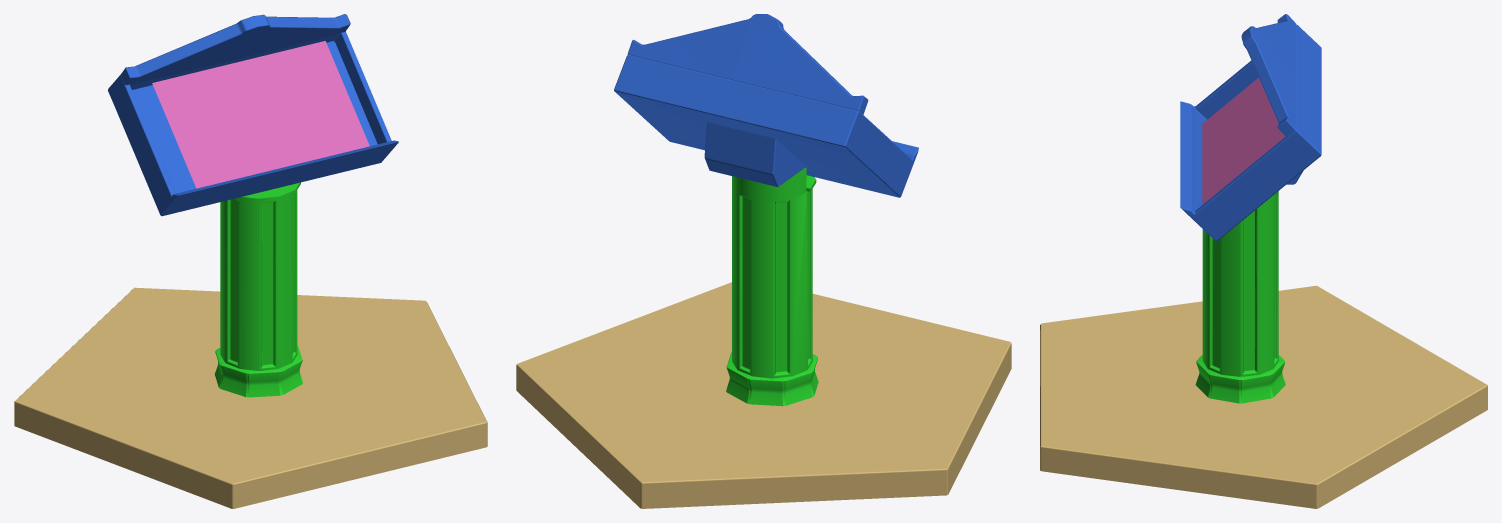
File: book_Something.fbx
3 views of the same model, side by side, from view 1: azimuth 30°, elevation 25°; view 2: azimuth 150°, elevation 25°; view 3: azimuth 270°, elevation 25° (orthographic). The views are drawn at different scales.
Parts seen in each view (by area): view 1: Cylinder.006; view 2: Cylinder.006; view 3: Cylinder.006.
Part boxes in pixels (x1,y1,x2,y2): Cylinder.006: (14, 14, 487, 508); Cylinder.006: (516, 14, 1011, 508); Cylinder.006: (1040, 14, 1487, 508).
Bounding box in the file's own units: 226 × 201 × 215.
